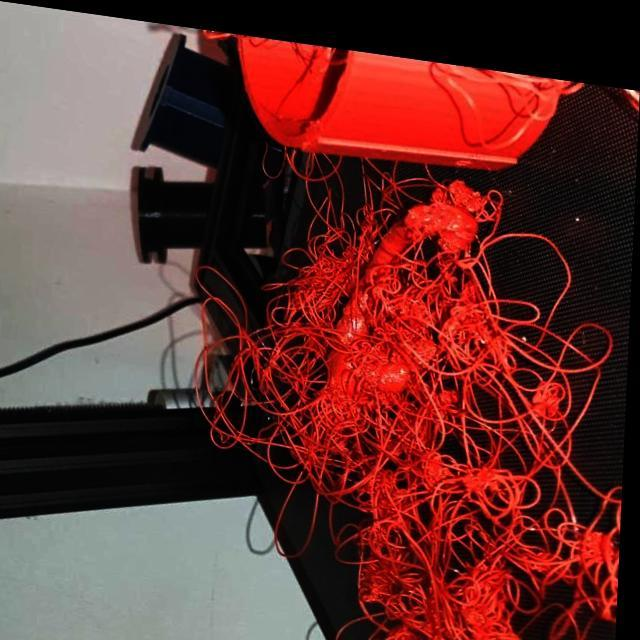spaghetti: (444, 453, 621, 620), (412, 245, 530, 490), (209, 277, 342, 473), (312, 163, 420, 333), (508, 291, 608, 448), (365, 499, 473, 640), (339, 353, 412, 501)
